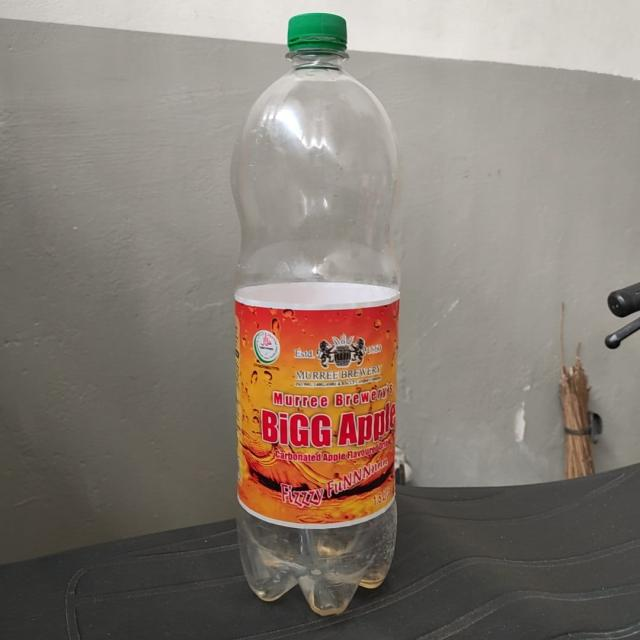bottle: (230, 14, 408, 610)
cap: (286, 12, 352, 64)
label: (228, 294, 406, 528)
